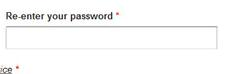field: (2, 24, 219, 51)
field_with_label: (1, 10, 221, 52)
